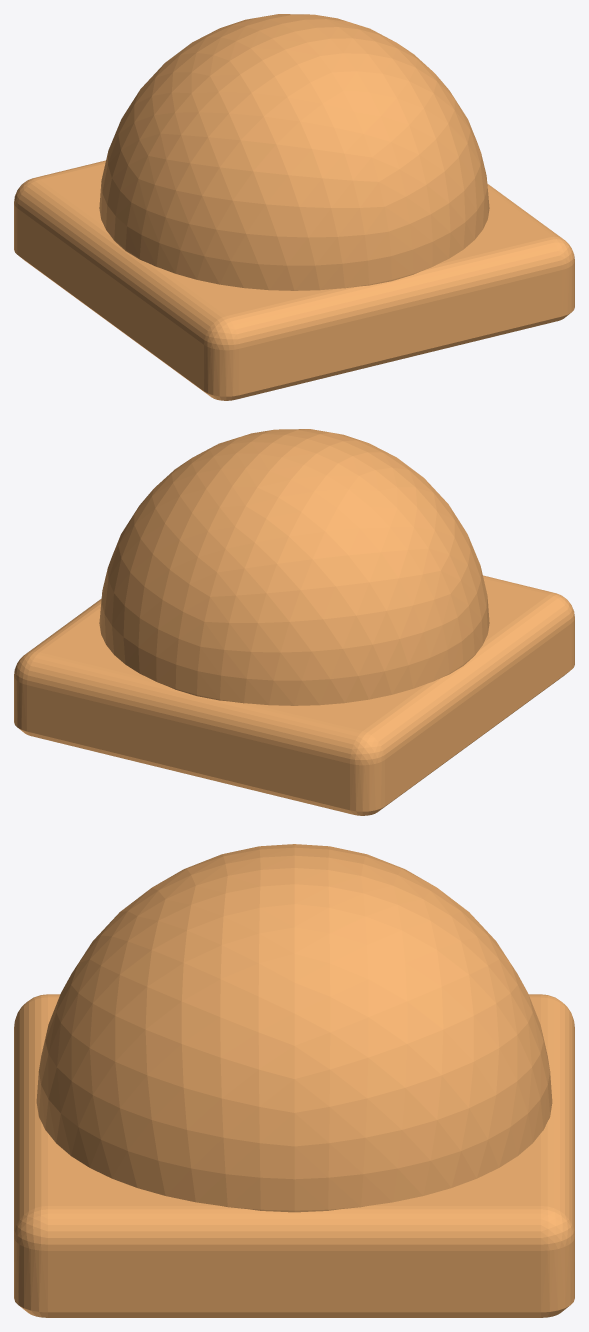
The model's file is dome-s-2x2.glb.
3 renders of one model, top to bottom at view 1: azimuth 30°, elevation 25°; view 2: azimuth 150°, elevation 25°; view 3: azimuth 270°, elevation 25°, orthographic. The views are drawn at different scales.
Parts seen in each view (by area): view 1: dome-s-2x2; view 2: dome-s-2x2; view 3: dome-s-2x2.
Part boxes in pixels (x1=…): dome-s-2x2: x1=14, y1=14, x2=574, y2=400; dome-s-2x2: x1=14, y1=429, x2=574, y2=815; dome-s-2x2: x1=14, y1=844, x2=574, y2=1317.
Size of the model in its own units: 0.0248 by 0.0164 by 0.0248.
